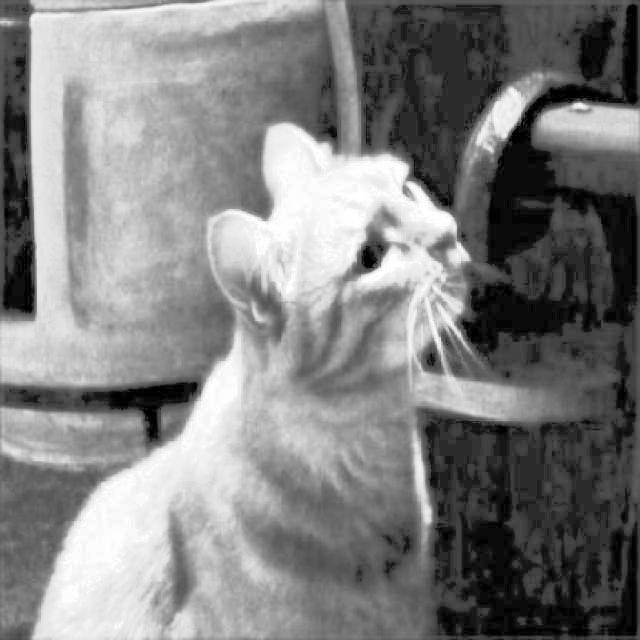Cat: (36, 114, 487, 640)
